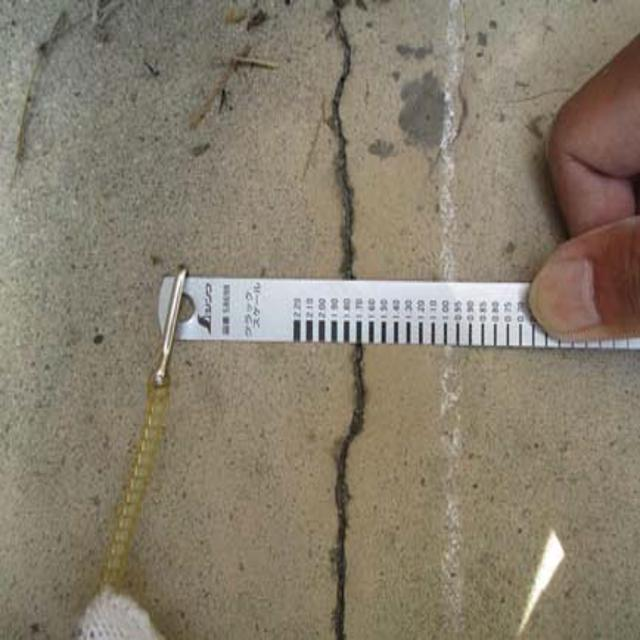crack: (308, 7, 396, 293), (304, 350, 384, 640)
